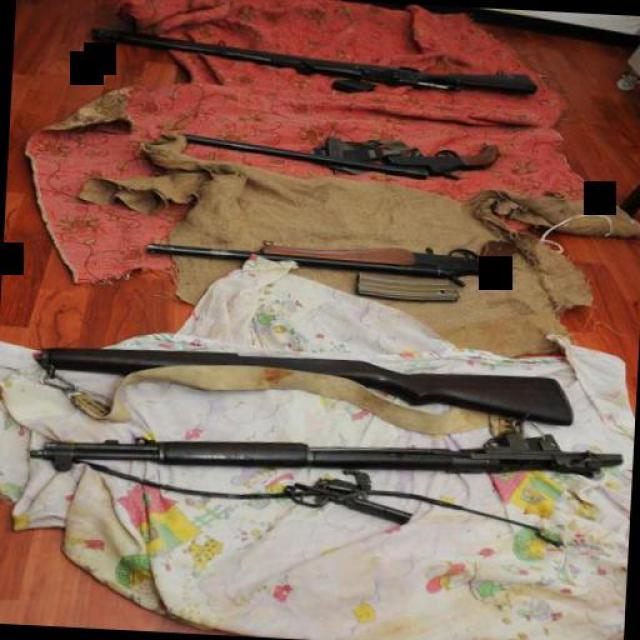gun: (131, 211, 524, 310), (146, 111, 502, 195)
